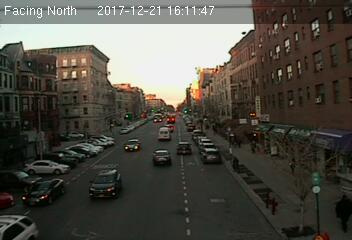car: (86, 167, 124, 201), (20, 177, 66, 205), (152, 149, 171, 165), (202, 147, 221, 161), (176, 141, 193, 155), (124, 139, 142, 152)
truck: (157, 127, 170, 139)
